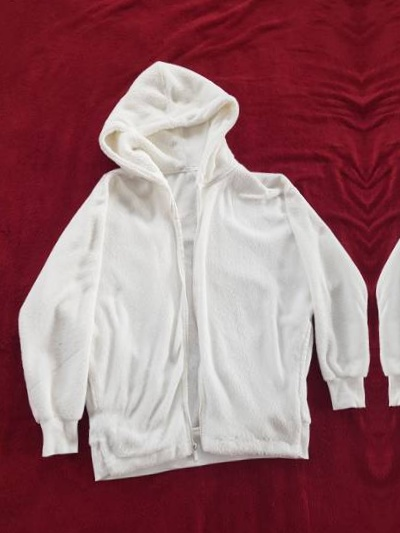Hoodie: (0, 37, 379, 495), (362, 20, 400, 478)
